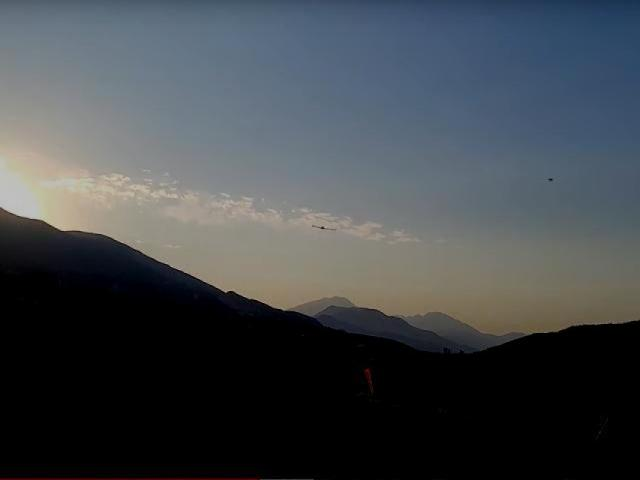iha: (310, 215, 335, 234)
